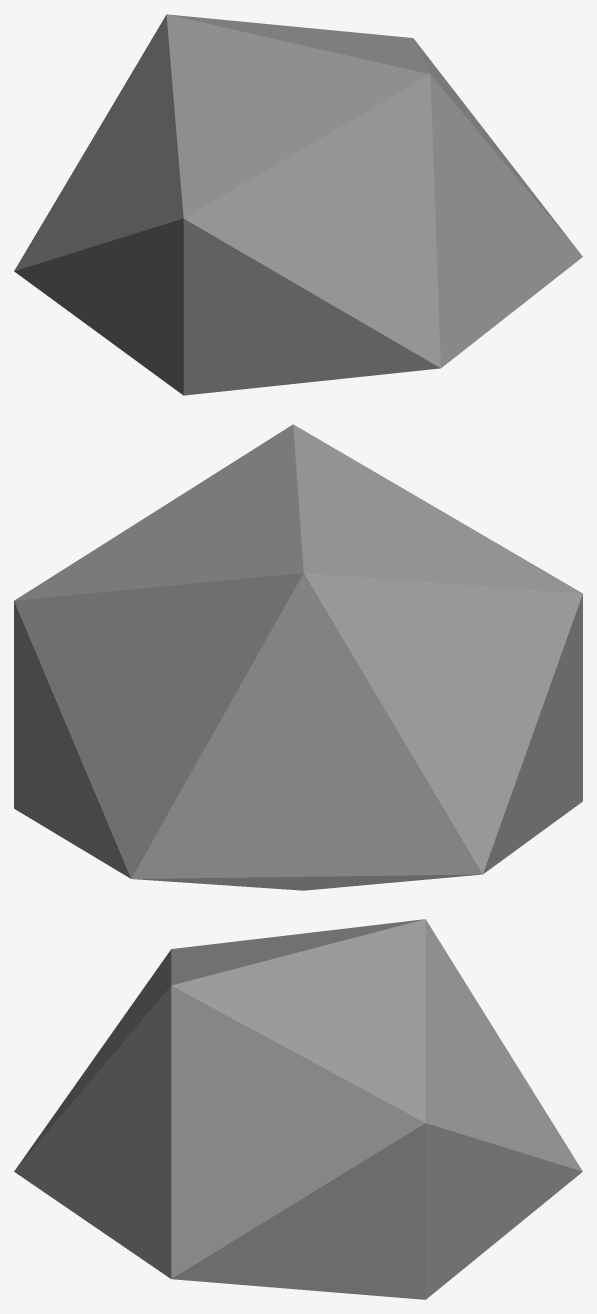
Rendered from Rock_V1_Geo.fbx.
3 renders of one model, top to bottom at view 1: azimuth 30°, elevation 25°; view 2: azimuth 150°, elevation 25°; view 3: azimuth 270°, elevation 25°, orthographic. The views are drawn at different scales.
Visible parts, largest first — view 1: Rock_V1_Geo; view 2: Rock_V1_Geo; view 3: Rock_V1_Geo.
Part boxes in pixels (bbox=[...]): Rock_V1_Geo: bbox=[14, 14, 582, 395]; Rock_V1_Geo: bbox=[14, 424, 582, 890]; Rock_V1_Geo: bbox=[14, 919, 582, 1299].
Size of the model in its own units: 37.96 by 22.24 by 42.44.
